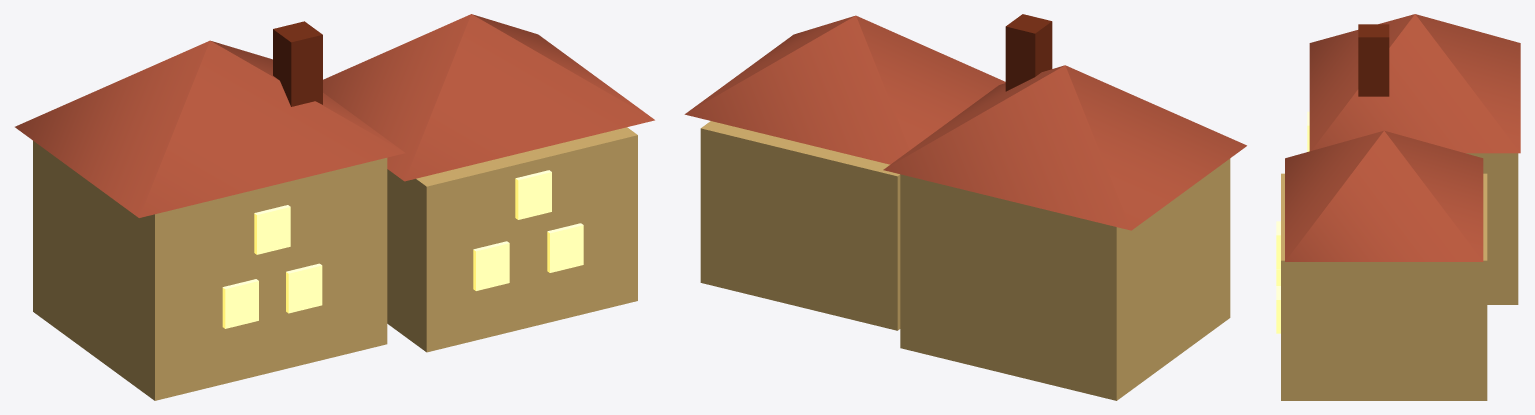
The model's file is house_set.glb.
The picture shows the model from 3 angles, left to right: view 1: azimuth 30°, elevation 25°; view 2: azimuth 150°, elevation 25°; view 3: azimuth 270°, elevation 25°; orthographic projection. The views are drawn at different scales.
Parts seen in each view (by area): view 1: house_set; view 2: house_set; view 3: house_set.
Boxes of the visible parts, x1,y1,x2,y2 form: house_set: (15, 14, 654, 400); house_set: (684, 14, 1246, 400); house_set: (1276, 14, 1520, 400).
Bounding box in the file's own units: 4.75 × 2.7 × 2.37.
